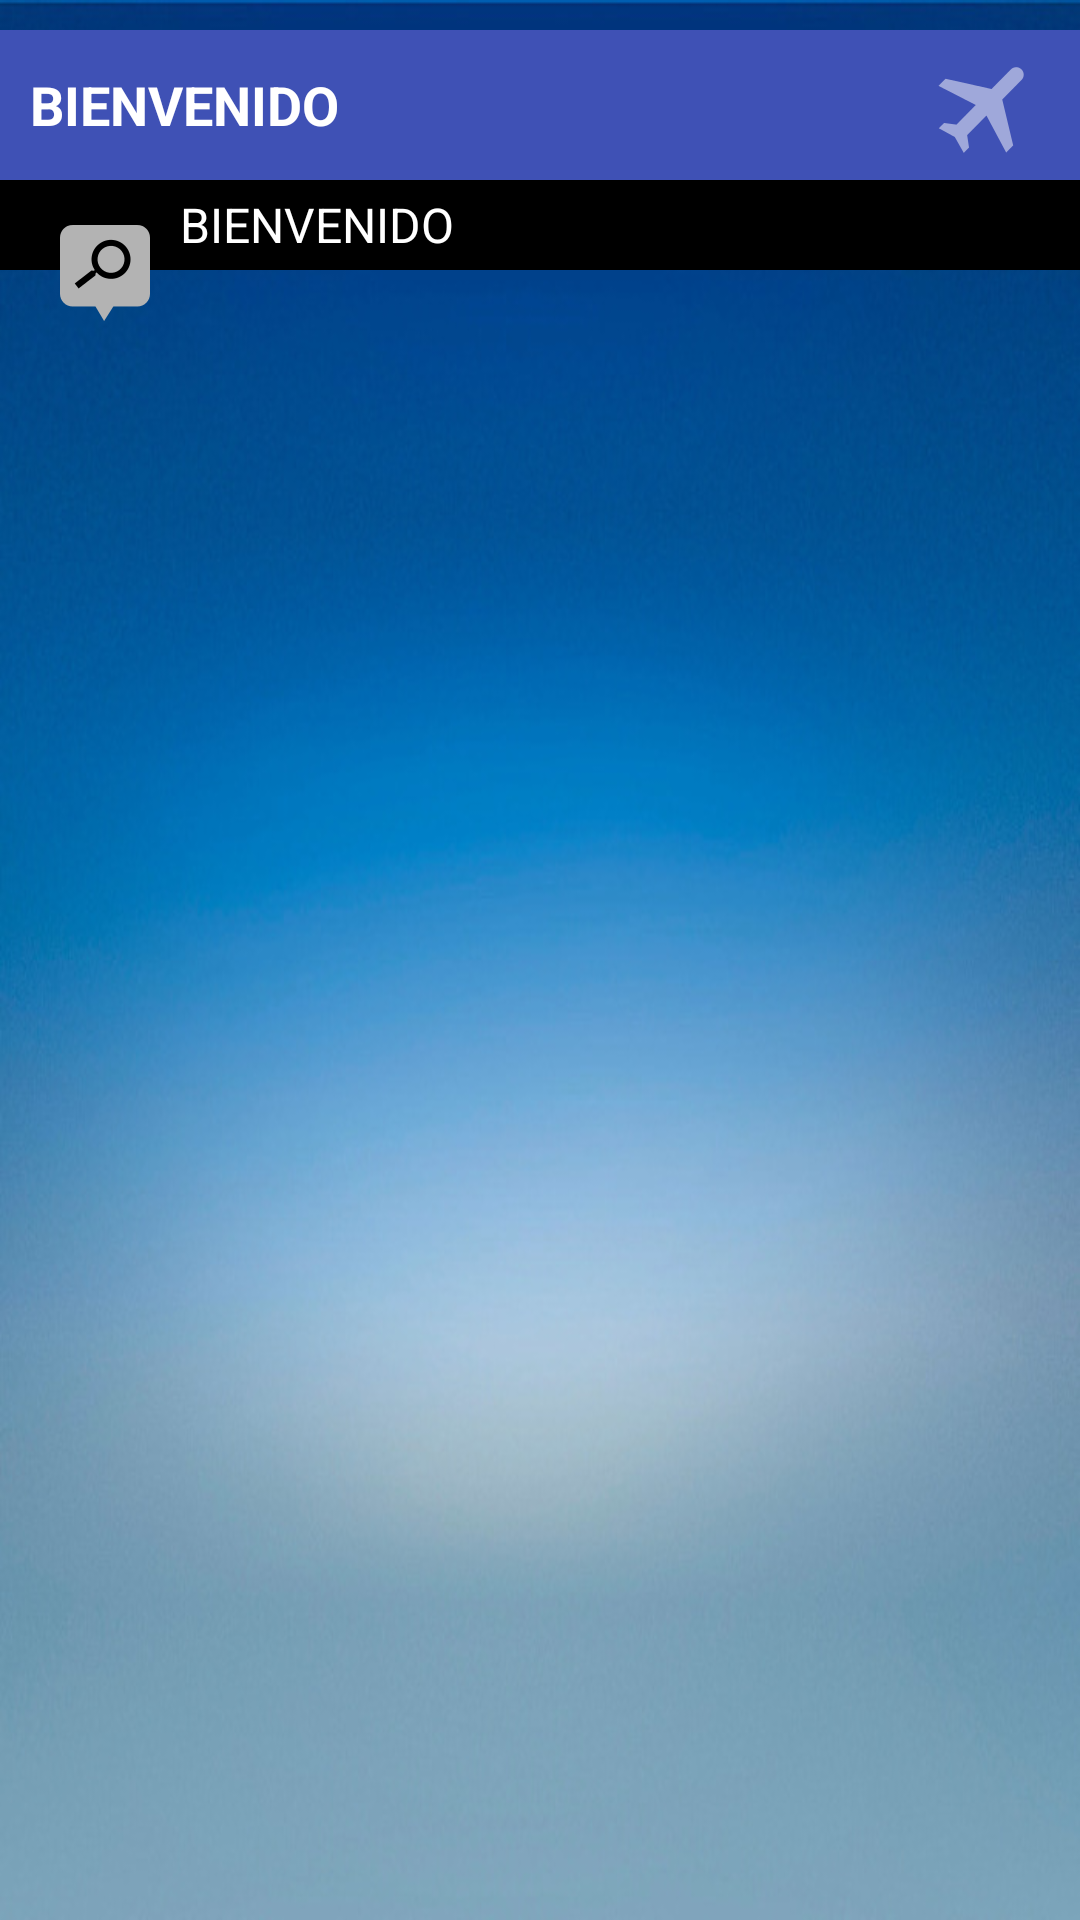

Point at icon controls on the screen. Image size 1080 × 1920, points as (x=x, y=y).
find: (x=105, y=273)
